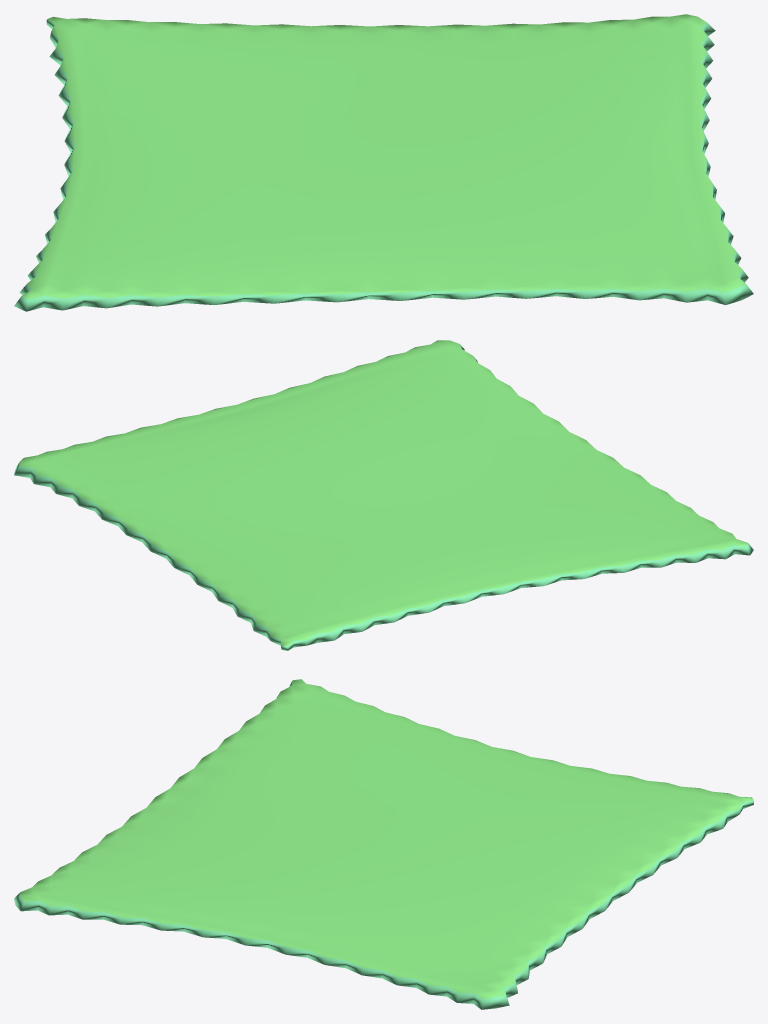
Rendered from Picnic.fbx.
The picture shows the model from 3 angles, top to bottom: view 1: azimuth 30°, elevation 25°; view 2: azimuth 150°, elevation 25°; view 3: azimuth 270°, elevation 25°; orthographic projection. The views are drawn at different scales.
Parts seen in each view (by area): view 1: Picnic; view 2: Picnic; view 3: Picnic.
Boxes of the visible parts, x1=… form: Picnic: x1=14, y1=14, x2=753, y2=311; Picnic: x1=14, y1=340, x2=753, y2=650; Picnic: x1=14, y1=679, x2=753, y2=1009.
Bounding box in the file's own units: 2.97 × 0.0626 × 2.87.
